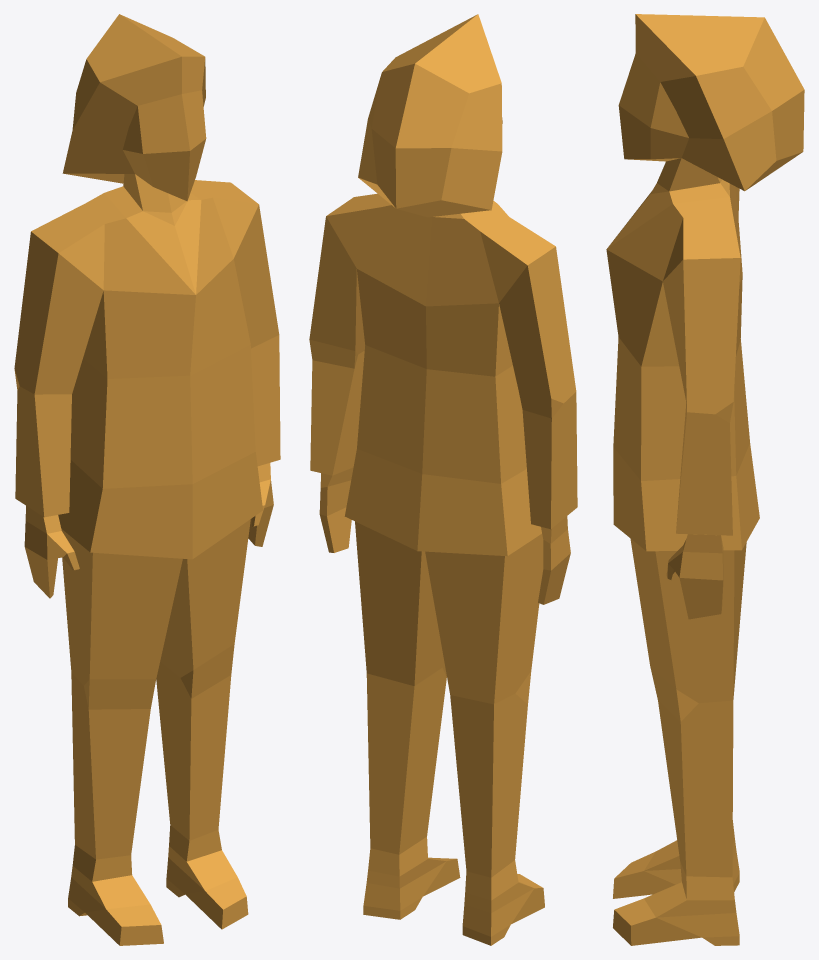
File: woman-suit.fbx
3 renders of one model, left to right at view 1: azimuth 30°, elevation 25°; view 2: azimuth 150°, elevation 25°; view 3: azimuth 270°, elevation 25°, orthographic. The views are drawn at different scales.
Visible parts, largest first — view 1: woman-suit; view 2: woman-suit; view 3: woman-suit.
Boxes of the visible parts, left/top/right/bottom form: woman-suit: left=14, top=14, right=280, bottom=945; woman-suit: left=309, top=14, right=577, bottom=945; woman-suit: left=606, top=14, right=804, bottom=945.
Bounding box in the file's own units: 0.5502 × 1.86 × 0.3704.
